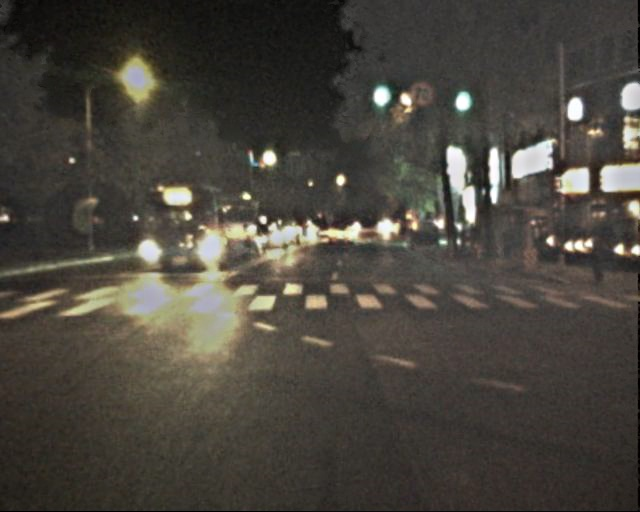person: (582, 233, 608, 281), (498, 221, 517, 267)
